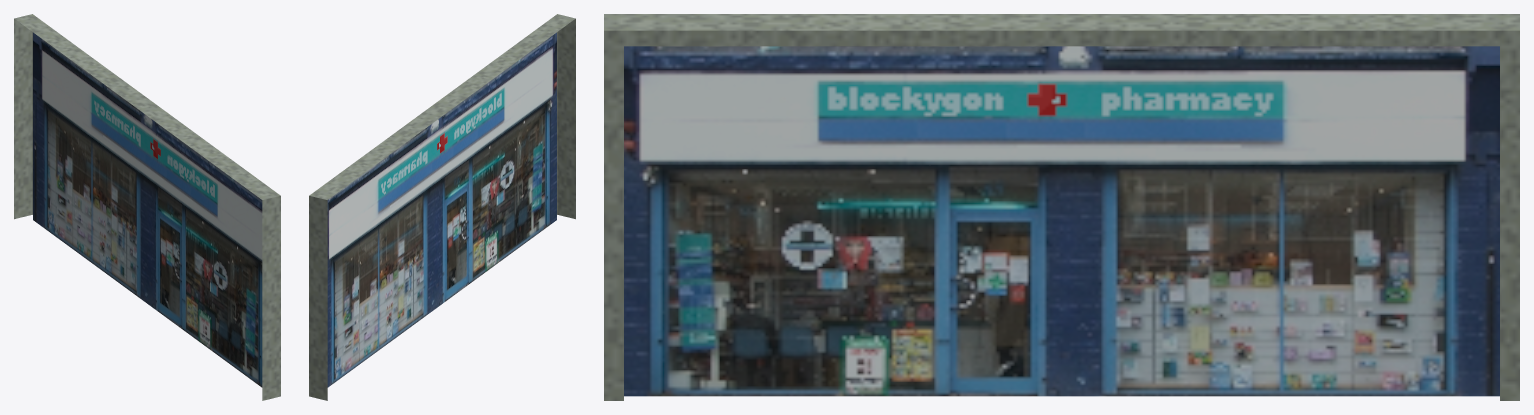
The model's file is BGN_STORE FRONT 1.fbx.
The picture shows the model from 3 angles, left to right: view 1: azimuth 30°, elevation 25°; view 2: azimuth 150°, elevation 25°; view 3: azimuth 270°, elevation 25°; orthographic projection. The views are drawn at different scales.
Parts seen in each view (by area): view 1: BGN_STORE_FRONT_1; view 2: BGN_STORE_FRONT_1; view 3: BGN_STORE_FRONT_1.
Part boxes in pixels (left/top/right/bottom): BGN_STORE_FRONT_1: left=14, top=14, right=280, bottom=400; BGN_STORE_FRONT_1: left=309, top=14, right=575, bottom=400; BGN_STORE_FRONT_1: left=604, top=14, right=1519, bottom=400.
Size of the model in its own units: 48.91 by 508 by 1138.
